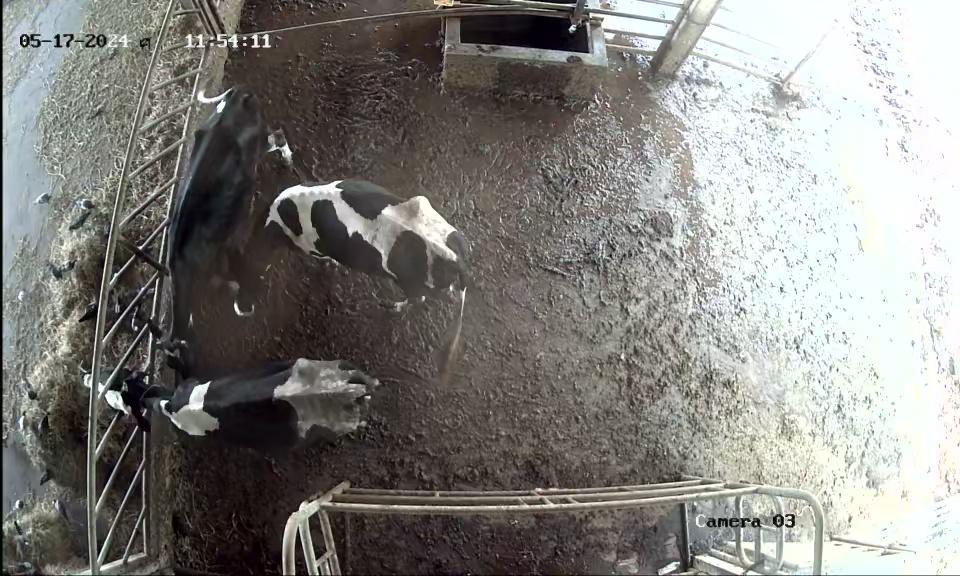eat: (57, 362, 187, 428)
stand: (227, 175, 491, 343), (147, 78, 287, 371)
